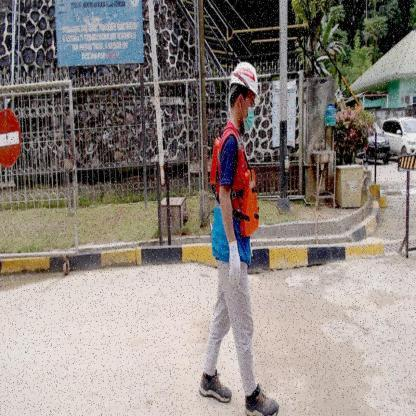boots: (198, 366, 234, 406), (242, 382, 280, 416)
gloves: (224, 237, 245, 289)
helmet: (230, 60, 260, 98)
mask: (242, 105, 257, 134)
vest: (210, 134, 263, 238)
